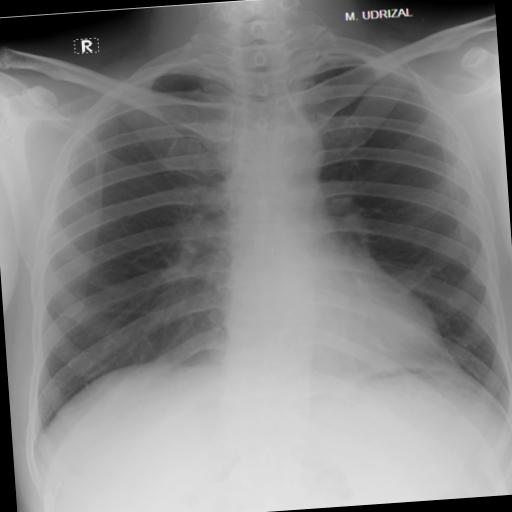kardiomegali: (3, 15, 512, 452)
